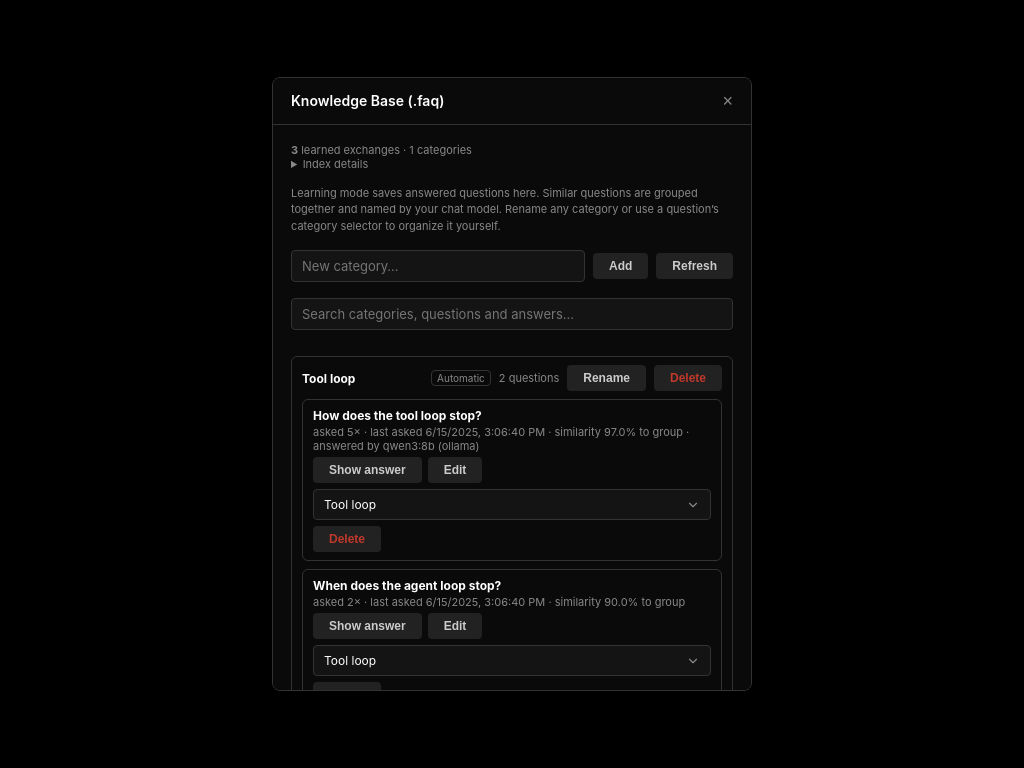
Test: FaqPanel › creates a manual category
The image size is (1024, 768).
Expected: the text "Tool loop" next to "Automatic" is shown, [302,371,355,386]
In the field with placeholder "New category…": (438, 266) [291,250,585,282], type "Concepts"
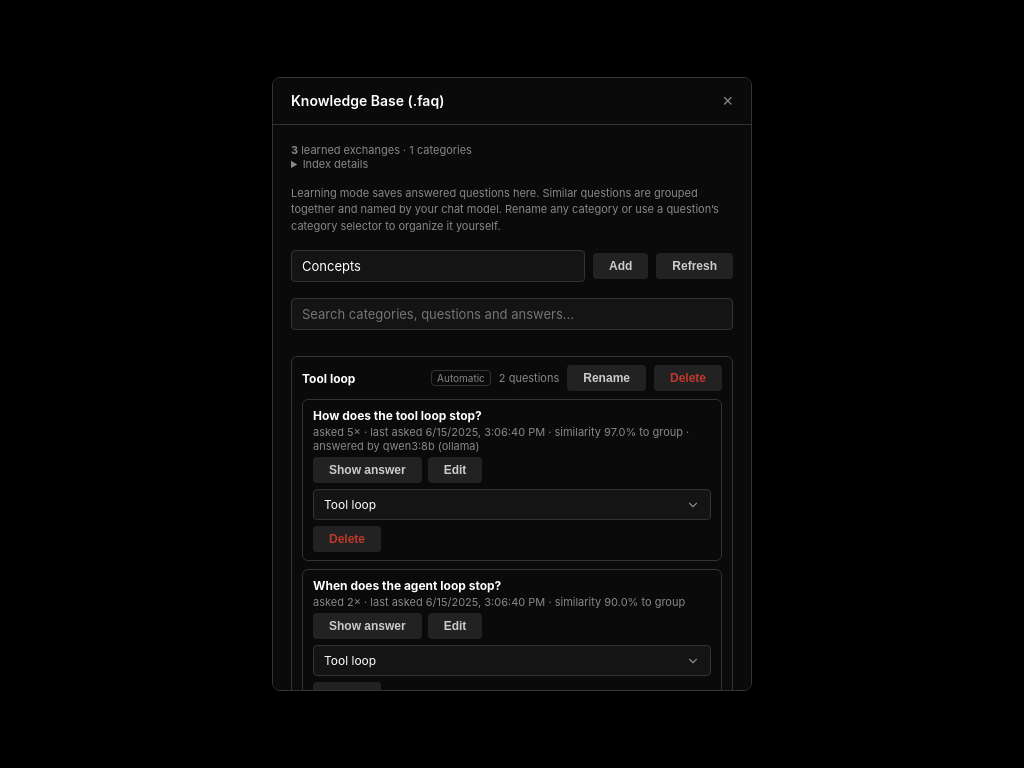
Click the button "Add": click(621, 266) [593,253,648,279]
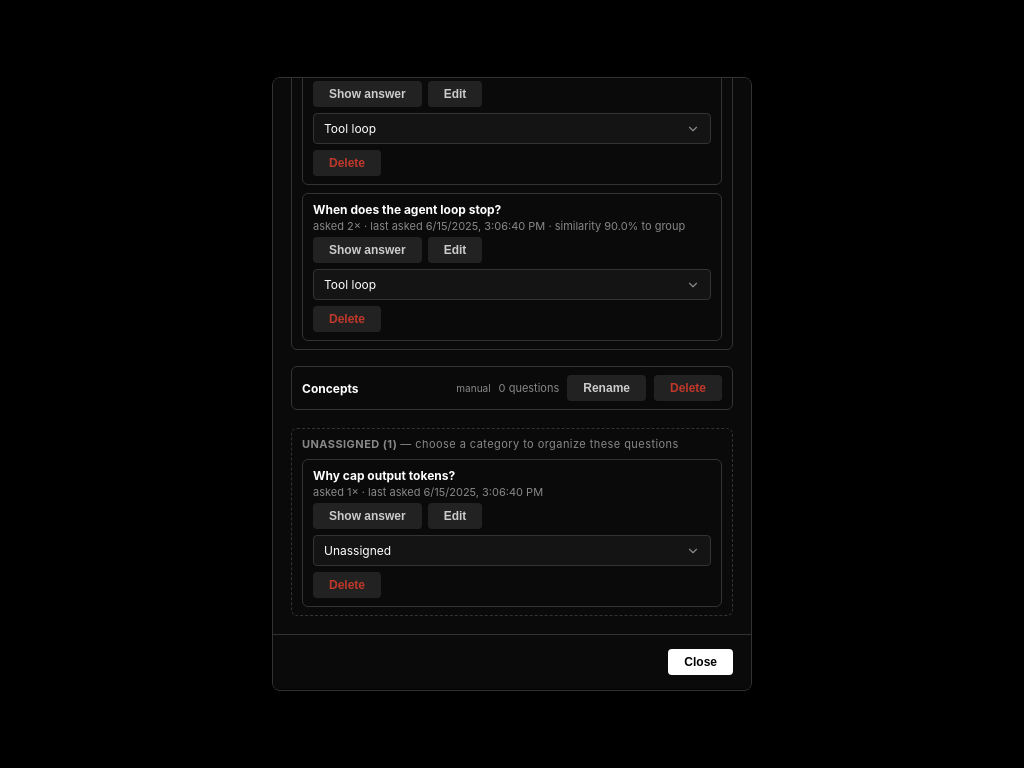
Expected: the text "Concepts" is shown, [302,381,358,396]
